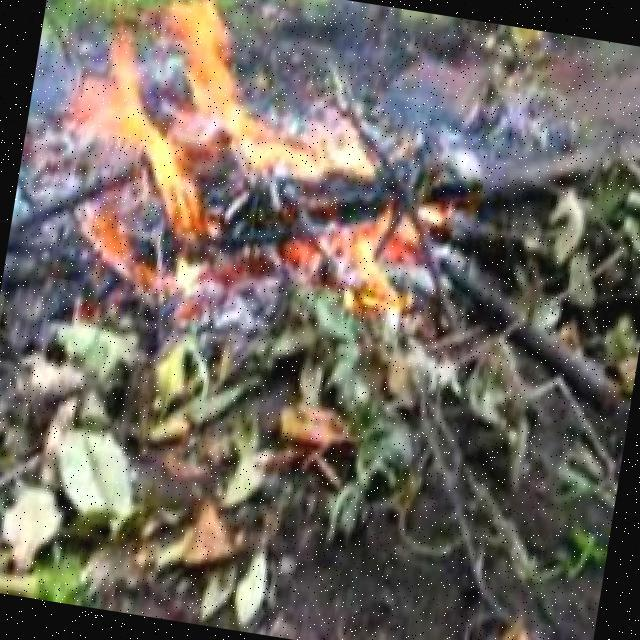Fire: (56, 0, 463, 325)
